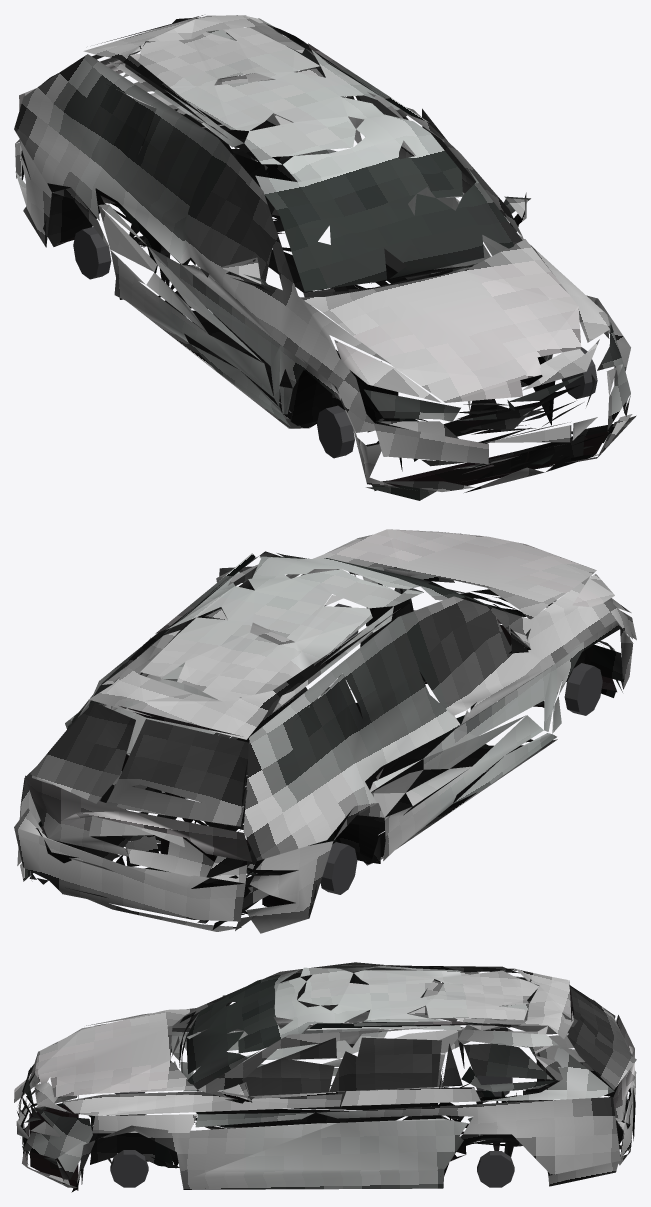
Rendered from kombi_f.glb.
3 views of the same model, one above another, from view 1: azimuth 30°, elevation 25°; view 2: azimuth 150°, elevation 25°; view 3: azimuth 270°, elevation 25° (orthographic). The views are drawn at different scales.
Visible parts, largest first — view 1: karosserie, rad_hl; view 2: karosserie, rad_hl; view 3: karosserie, rad_hl.
Part boxes in pixels (<box>): karosserie: <box>14,15,636,500</box>; rad_hl: <box>73,227,597,458</box>; karosserie: <box>14,529,636,933</box>; rad_hl: <box>91,603,602,894</box>; karosserie: <box>14,962,636,1192</box>; rad_hl: <box>110,1075,514,1187</box>.
Bounding box in the file's own units: 2.02 × 1.35 × 4.72.
Materials: 2 (1 with a texture image).
